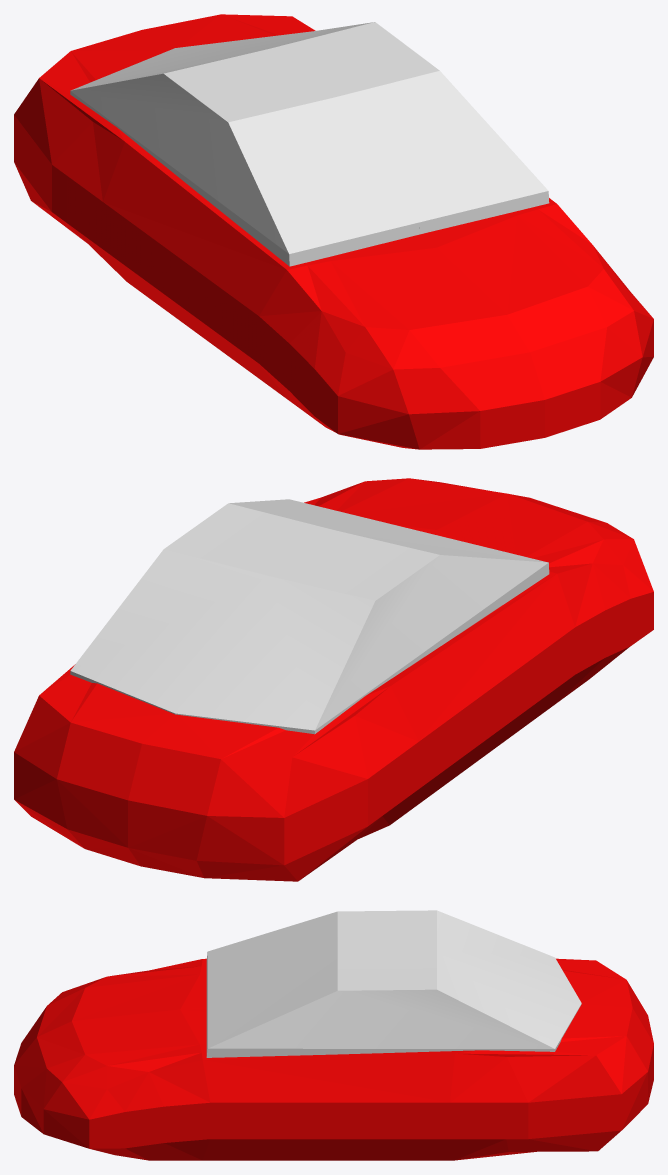
File: GenericCarCollider.FBX
The picture shows the model from 3 angles, top to bottom: view 1: azimuth 30°, elevation 25°; view 2: azimuth 150°, elevation 25°; view 3: azimuth 270°, elevation 25°; orthographic projection. The views are drawn at different scales.
Parts seen in each view (by area): view 1: colider, Box02; view 2: colider, Box02; view 3: colider, Box02.
Part boxes in pixels (x1,y1,x2,y2): colider: (14,14,653,449); Box02: (70,22,549,266); colider: (14,478,653,881); Box02: (70,499,549,734); colider: (14,958,653,1160); Box02: (206,910,581,1057).
Bounding box in the file's own units: 185 × 422 × 117.
